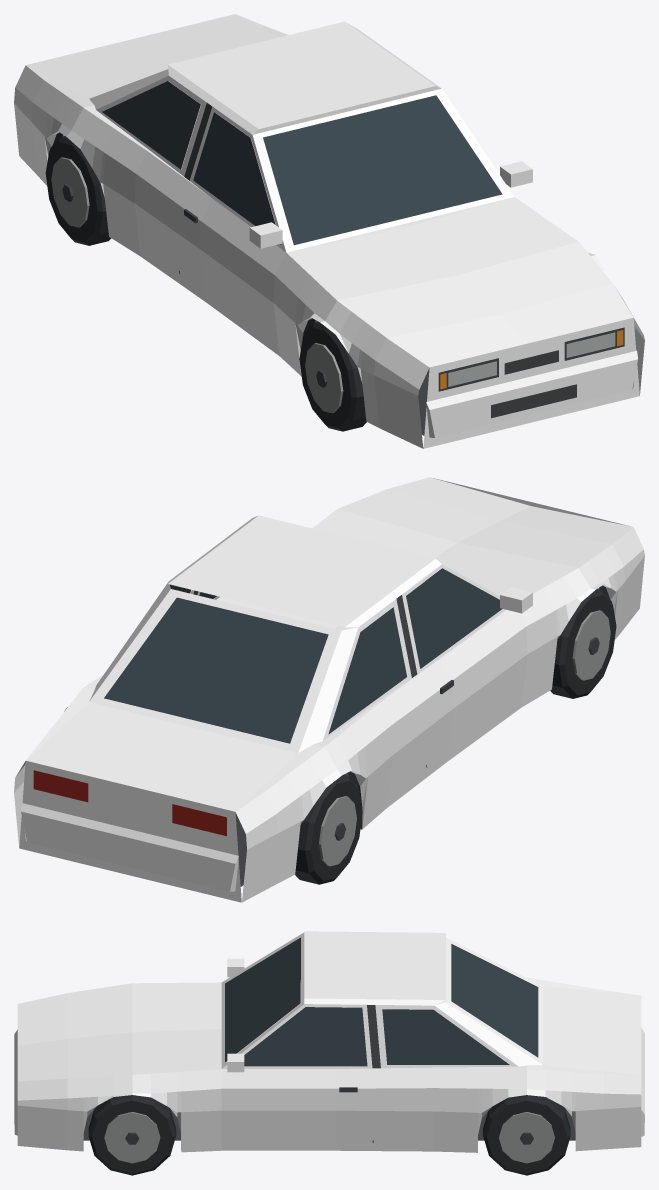
The model's file is hayase_hibari.glb.
The picture shows the model from 3 angles, top to bottom: view 1: azimuth 30°, elevation 25°; view 2: azimuth 150°, elevation 25°; view 3: azimuth 270°, elevation 25°; orthographic projection. The views are drawn at different scales.
Parts seen in each view (by area): view 1: hayase_hibari; view 2: hayase_hibari; view 3: hayase_hibari.
Part boxes in pixels (bbox=[...]): hayase_hibari: bbox=[14, 14, 644, 448]; hayase_hibari: bbox=[14, 477, 644, 902]; hayase_hibari: bbox=[14, 931, 644, 1175].
Bounding box in the file's own units: 1.75 × 1.26 × 4.46.
8 materials, 1 textured.
